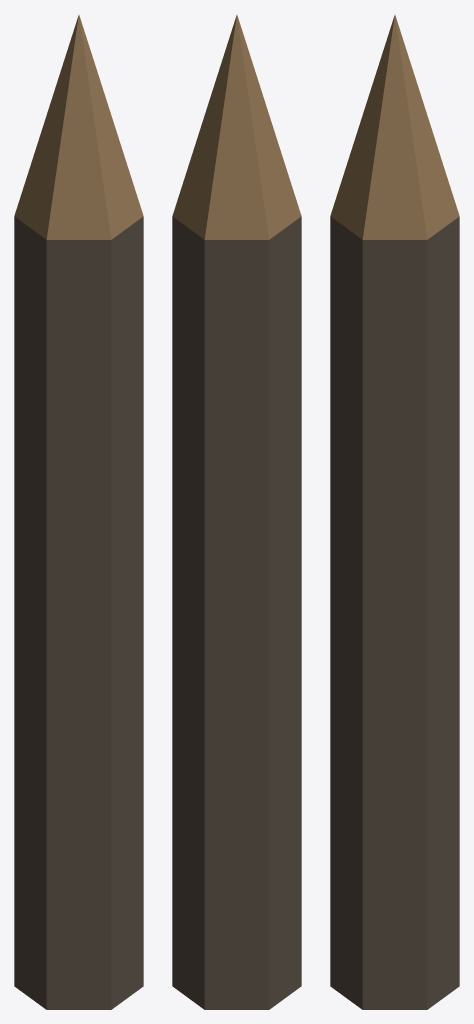
Rendered from Wooden_Spear_06.fbx.
3 views of the same model, side by side, from view 1: azimuth 90°, elevation 25°; view 2: azimuth 150°, elevation 25°; view 3: azimuth 270°, elevation 25° (orthographic).
Parts seen in each view (by area): view 1: Wooden_Spear; view 2: Wooden_Spear; view 3: Wooden_Spear.
Boxes of the visible parts, x1=… form: Wooden_Spear: x1=14, y1=15, x2=143, y2=1009; Wooden_Spear: x1=172, y1=15, x2=301, y2=1009; Wooden_Spear: x1=330, y1=15, x2=459, y2=1009.
Bounding box in the file's own units: 6.4 × 61.38 × 7.41.
